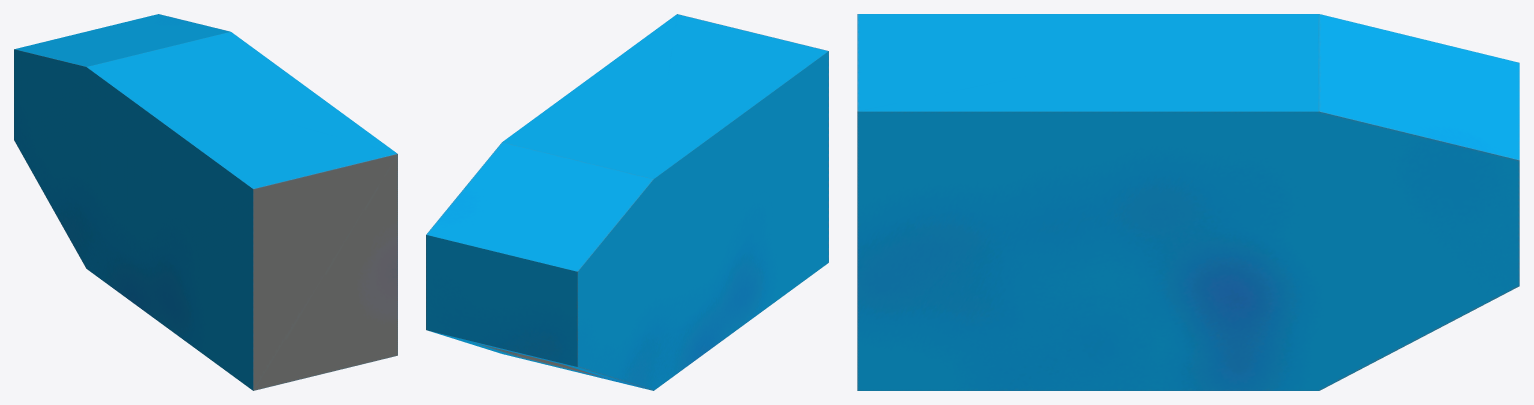
Rendered from bin_blue.fbx.
3 views of the same model, side by side, from view 1: azimuth 30°, elevation 25°; view 2: azimuth 150°, elevation 25°; view 3: azimuth 270°, elevation 25° (orthographic). The views are drawn at different scales.
Visible parts, largest first — view 1: node_id27; view 2: node_id27; view 3: node_id27.
Part boxes in pixels (bbox=[...]): node_id27: bbox=[14, 14, 397, 390]; node_id27: bbox=[426, 14, 828, 390]; node_id27: bbox=[857, 14, 1519, 390].
Size of the model in its own units: 0.384 by 0.512 by 1.1.
Materials: 1 (1 with a texture image).
